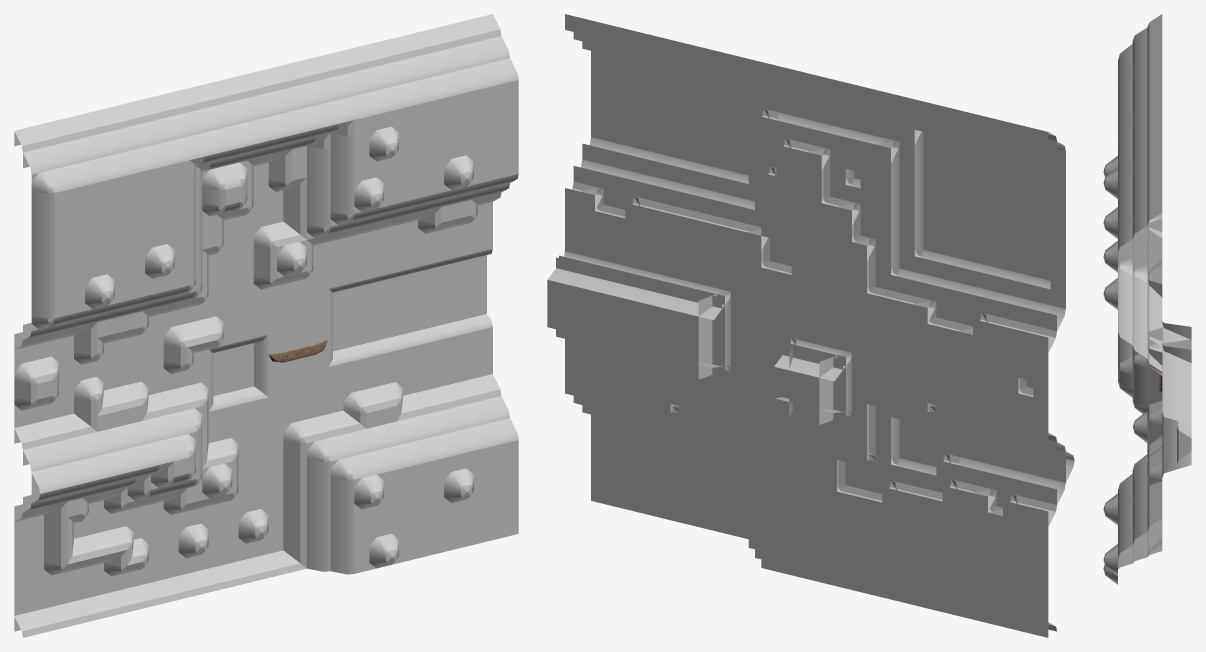
Rendered from Voltic-Cave_01_03.obj.
3 views of the same model, side by side, from view 1: azimuth 30°, elevation 25°; view 2: azimuth 150°, elevation 25°; view 3: azimuth 270°, elevation 25° (orthographic). The views are drawn at different scales.
Visible parts, largest first — view 1: map; view 2: map; view 3: map.
Part boxes in pixels (x1,y1,x2,y2): map: (14, 14, 518, 637); map: (547, 14, 1074, 637); map: (1103, 14, 1191, 584).
Size of the model in its own units: 32 by 32 by 6.
